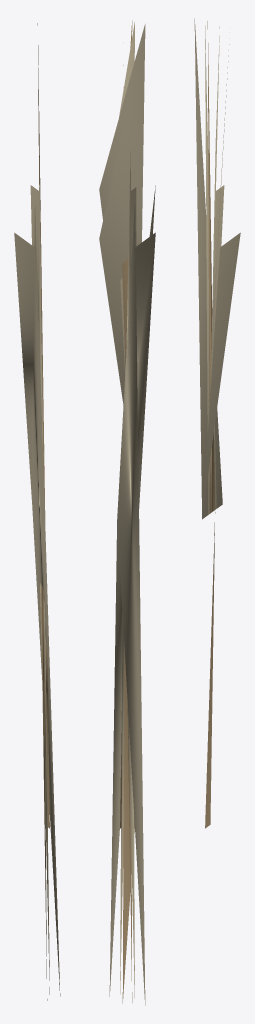
The model's file is equip_weapon_earth_staff.glb.
3 views of the same model, side by side, from view 1: azimuth 30°, elevation 25°; view 2: azimuth 150°, elevation 25°; view 3: azimuth 330°, elevation 25° (orthographic).
Visible parts, largest first — view 1: equip_weapon_earth_staff; view 2: equip_weapon_earth_staff; view 3: equip_weapon_earth_staff.
Boxes of the visible parts, x1,y1,x2,y2 form: equip_weapon_earth_staff: (14,23,60,1000); equip_weapon_earth_staff: (99,20,155,1005); equip_weapon_earth_staff: (194,18,240,828).
Size of the model in its own units: 0.076 by 2 by 0.076.
